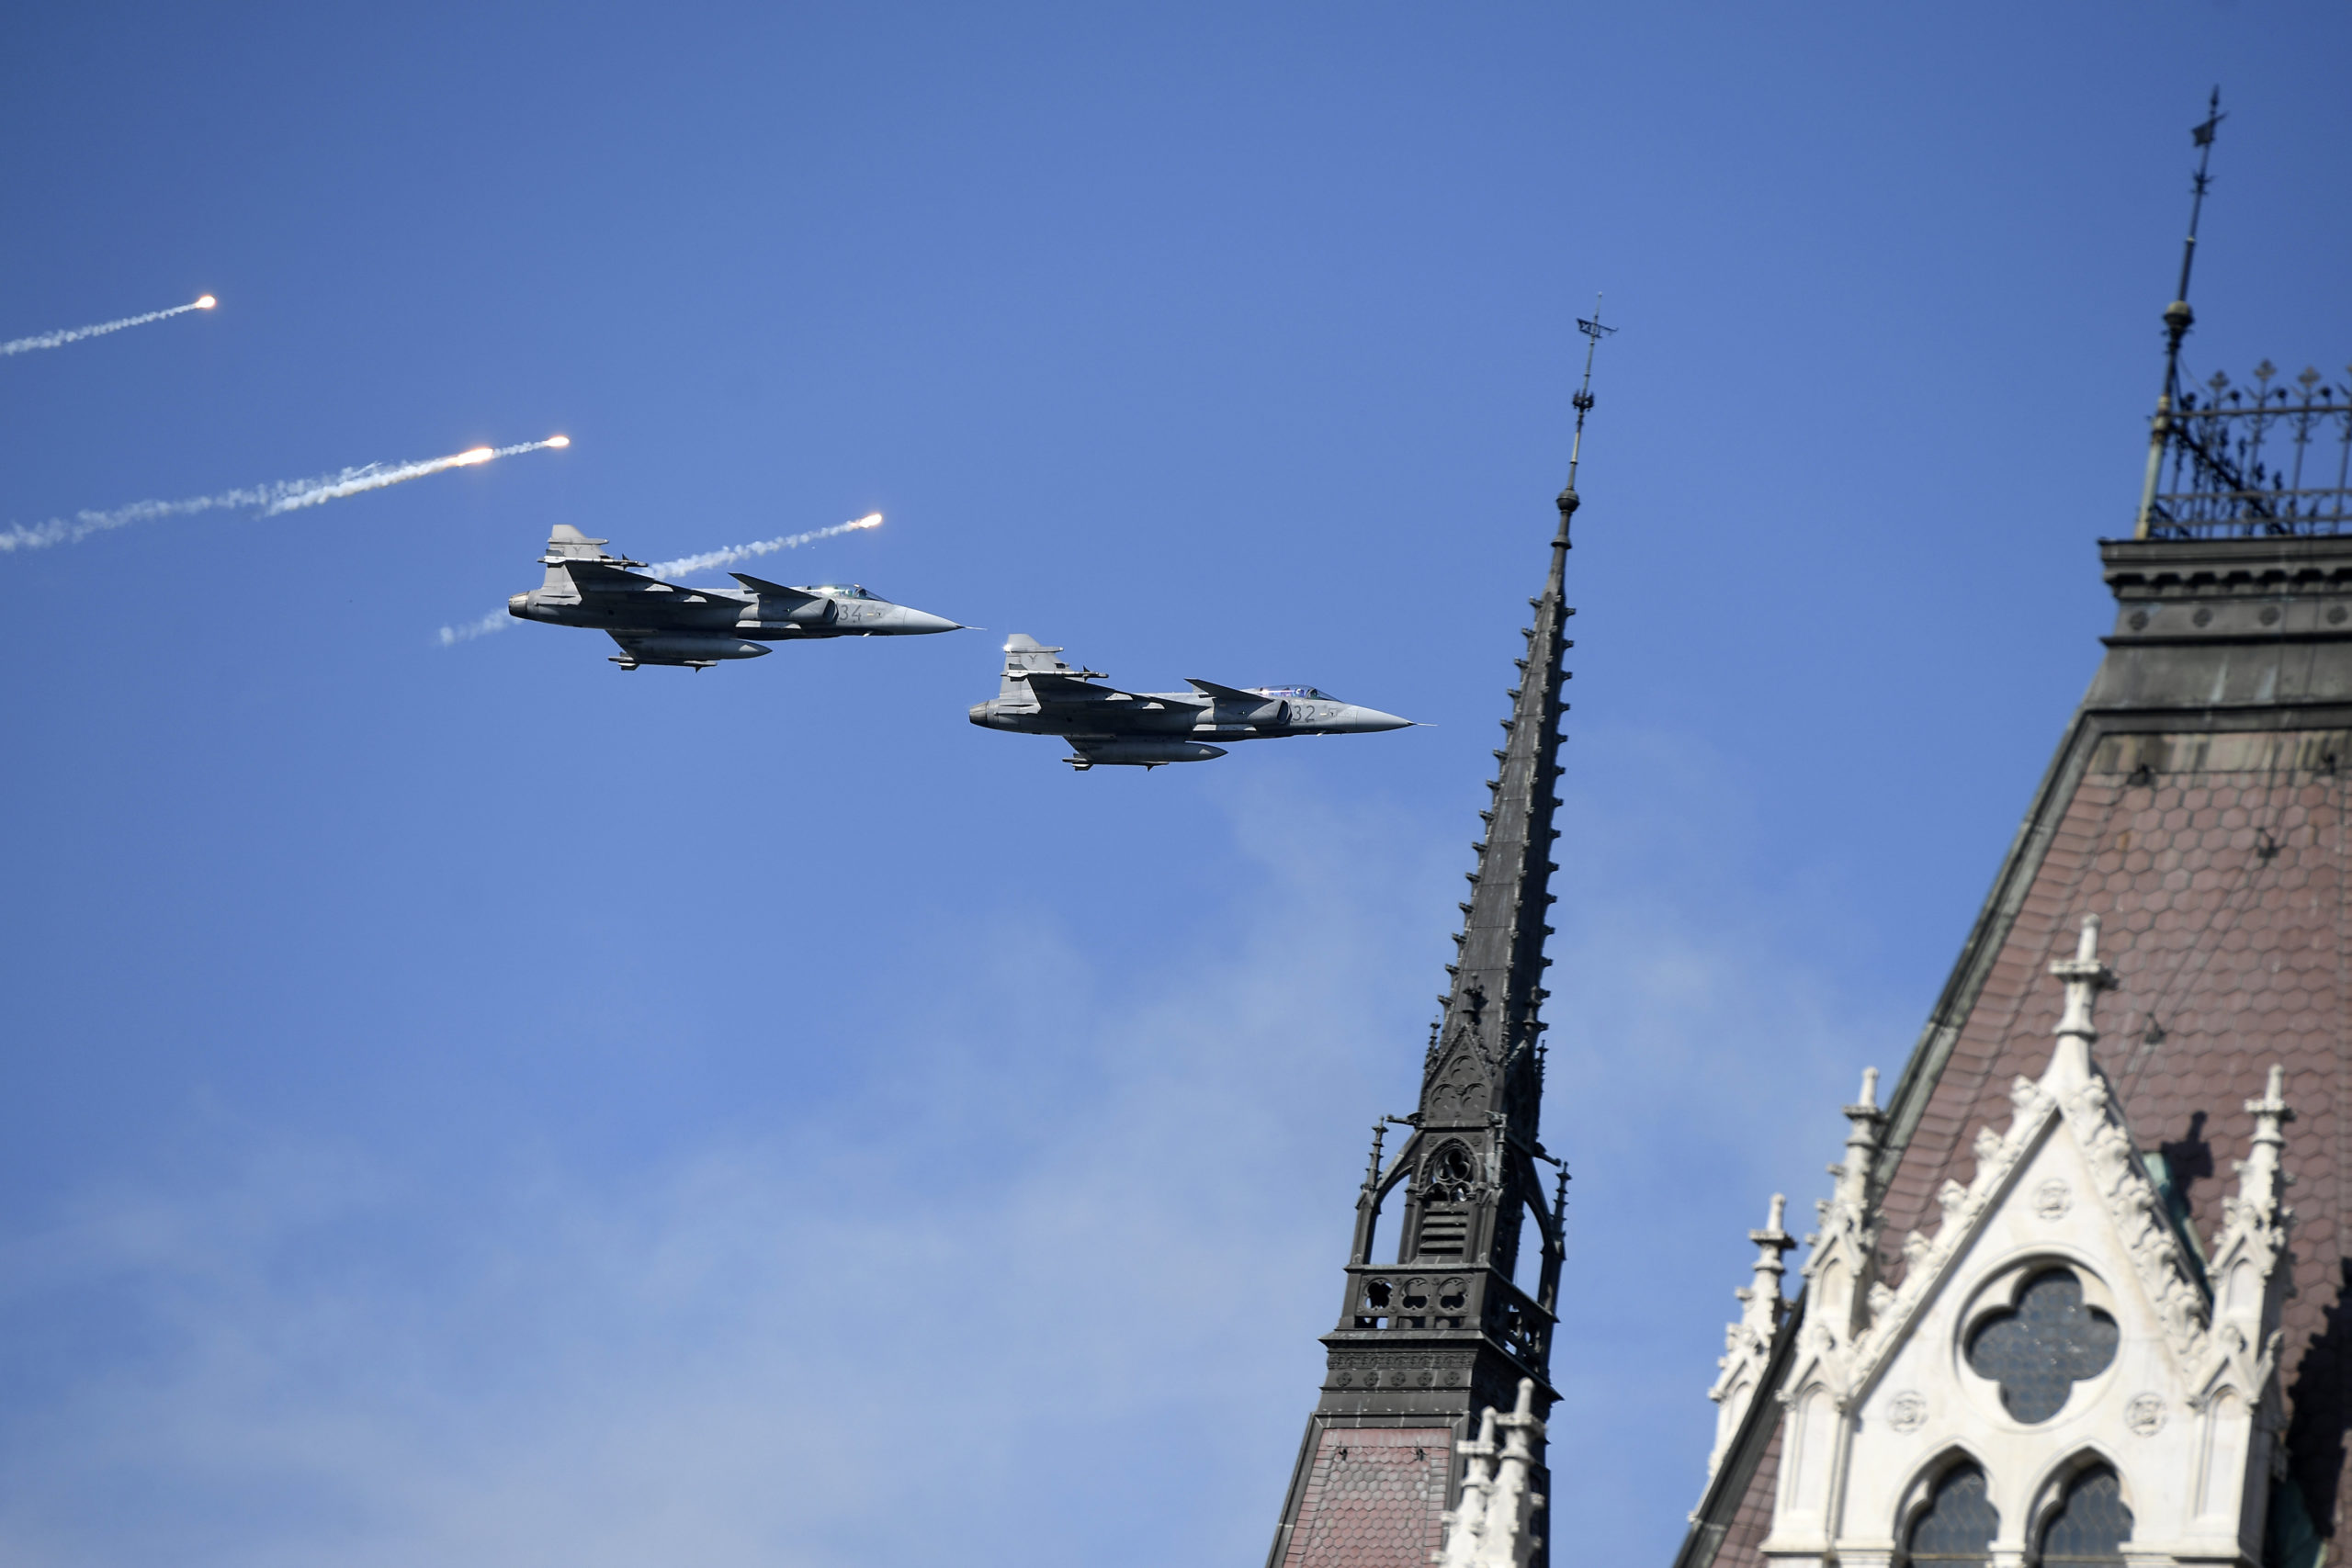JAS39: (507, 523, 989, 674), (968, 632, 1440, 772)
